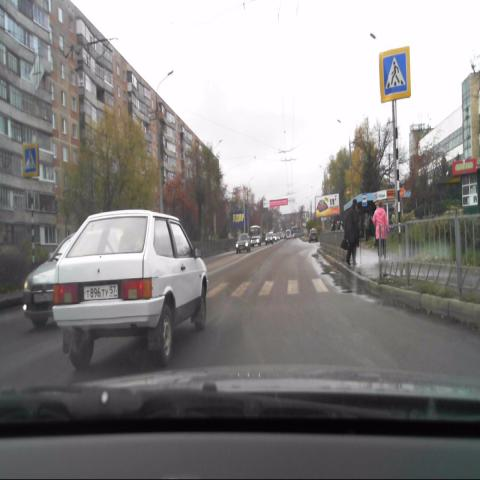5_19_1: (23, 142, 40, 177)
